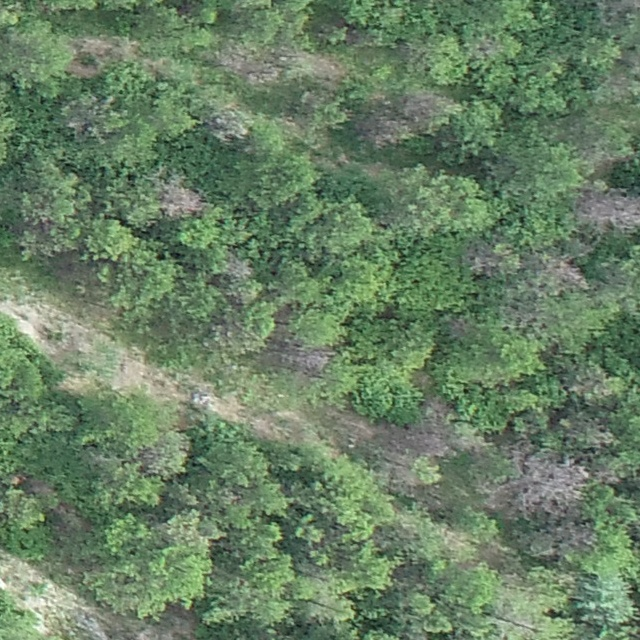unhealthy: (520, 451, 591, 517), (576, 189, 640, 228), (220, 43, 280, 83), (140, 432, 191, 478), (530, 252, 590, 288), (557, 413, 617, 448), (387, 431, 457, 459), (70, 35, 142, 61), (66, 96, 114, 134), (398, 92, 455, 122), (572, 367, 621, 401), (361, 117, 411, 150), (213, 105, 251, 144), (161, 184, 202, 217), (305, 56, 349, 84), (481, 479, 522, 509), (558, 521, 600, 550), (295, 348, 331, 374), (467, 247, 501, 274), (457, 436, 499, 455), (66, 59, 103, 79), (224, 255, 252, 279), (593, 466, 626, 486), (424, 407, 448, 430), (147, 57, 170, 76), (451, 319, 476, 336)
